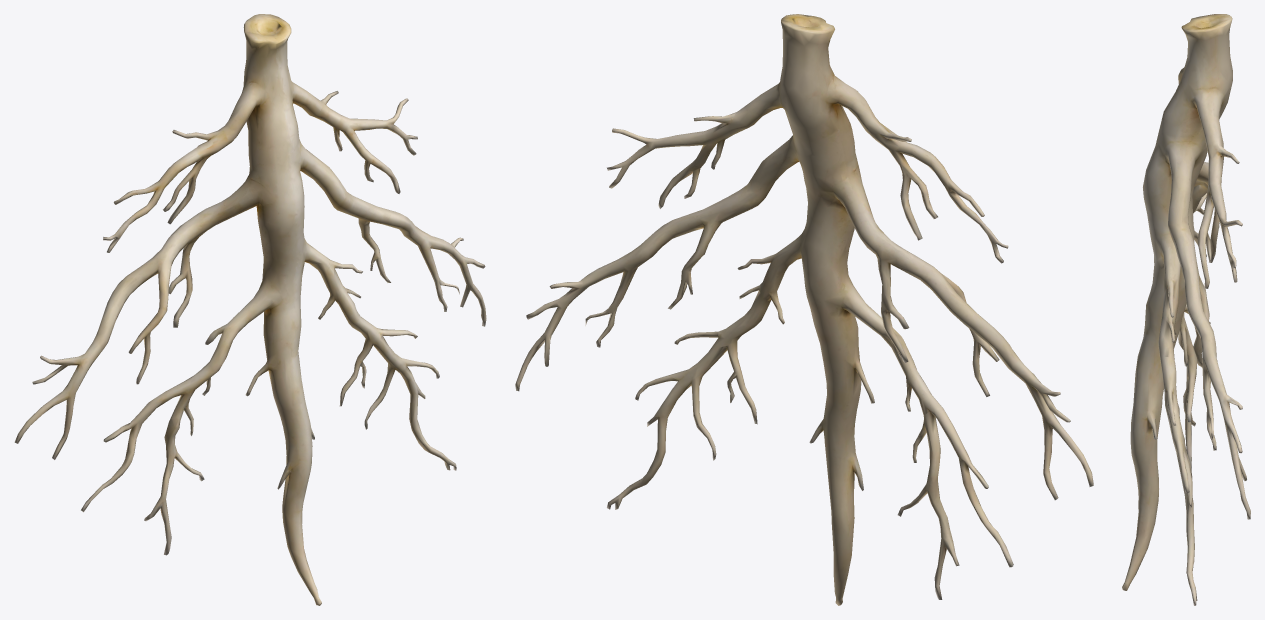
3 views of the same model, side by side, from view 1: azimuth 30°, elevation 25°; view 2: azimuth 150°, elevation 25°; view 3: azimuth 270°, elevation 25° (orthographic). The views are drawn at different scales.
Visible parts, largest first — view 1: tripo_node_764bdc3e-2a90-4db8-8d06-57a57309fc1e; view 2: tripo_node_764bdc3e-2a90-4db8-8d06-57a57309fc1e; view 3: tripo_node_764bdc3e-2a90-4db8-8d06-57a57309fc1e.
Part boxes in pixels (box(x1,y1,x2,y2)): tripo_node_764bdc3e-2a90-4db8-8d06-57a57309fc1e: box(14, 14, 486, 605); tripo_node_764bdc3e-2a90-4db8-8d06-57a57309fc1e: box(515, 14, 1093, 605); tripo_node_764bdc3e-2a90-4db8-8d06-57a57309fc1e: box(1122, 14, 1250, 605).
Bounding box in the file's own units: 0.9289 × 1 × 0.2056.
Materials: 1 (1 with a texture image).
